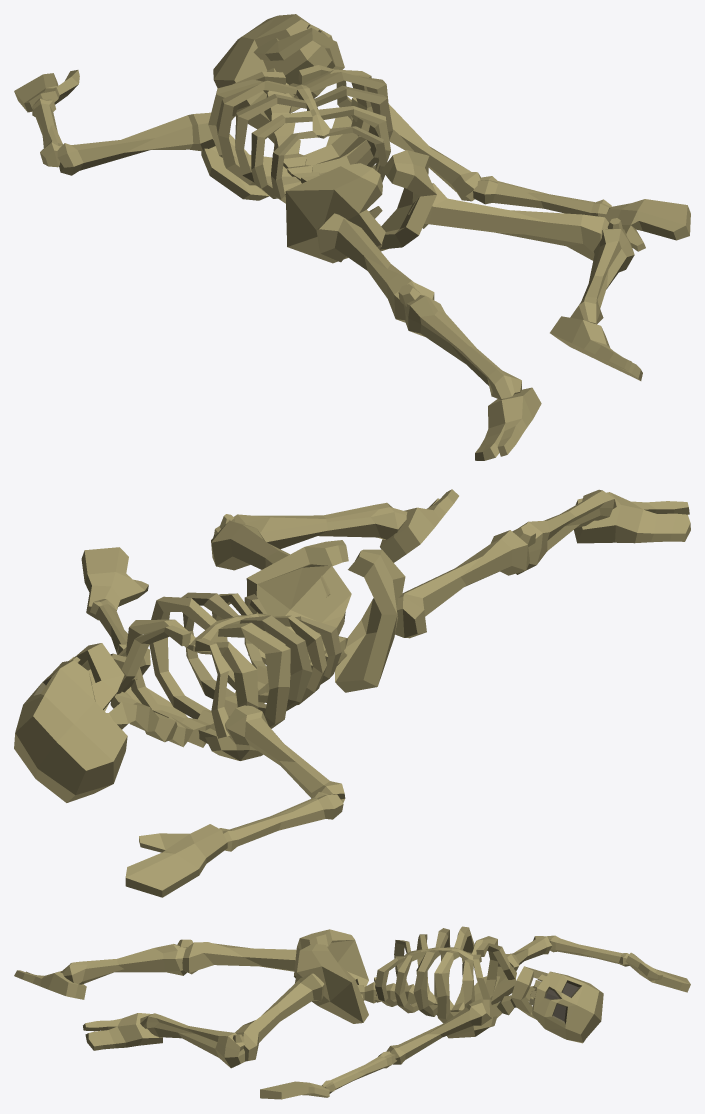
The model's file is Sceleton_1.fbx.
3 renders of one model, top to bottom at view 1: azimuth 30°, elevation 25°; view 2: azimuth 150°, elevation 25°; view 3: azimuth 270°, elevation 25°, orthographic. The views are drawn at different scales.
Parts seen in each view (by area): view 1: Sceleton_1; view 2: Sceleton_1; view 3: Sceleton_1.
Part boxes in pixels (<box>): Sceleton_1: <box>14,14,690,460</box>; Sceleton_1: <box>14,489,690,897</box>; Sceleton_1: <box>14,926,690,1099</box>.
Size of the model in its own units: 109 by 30.15 by 211.
